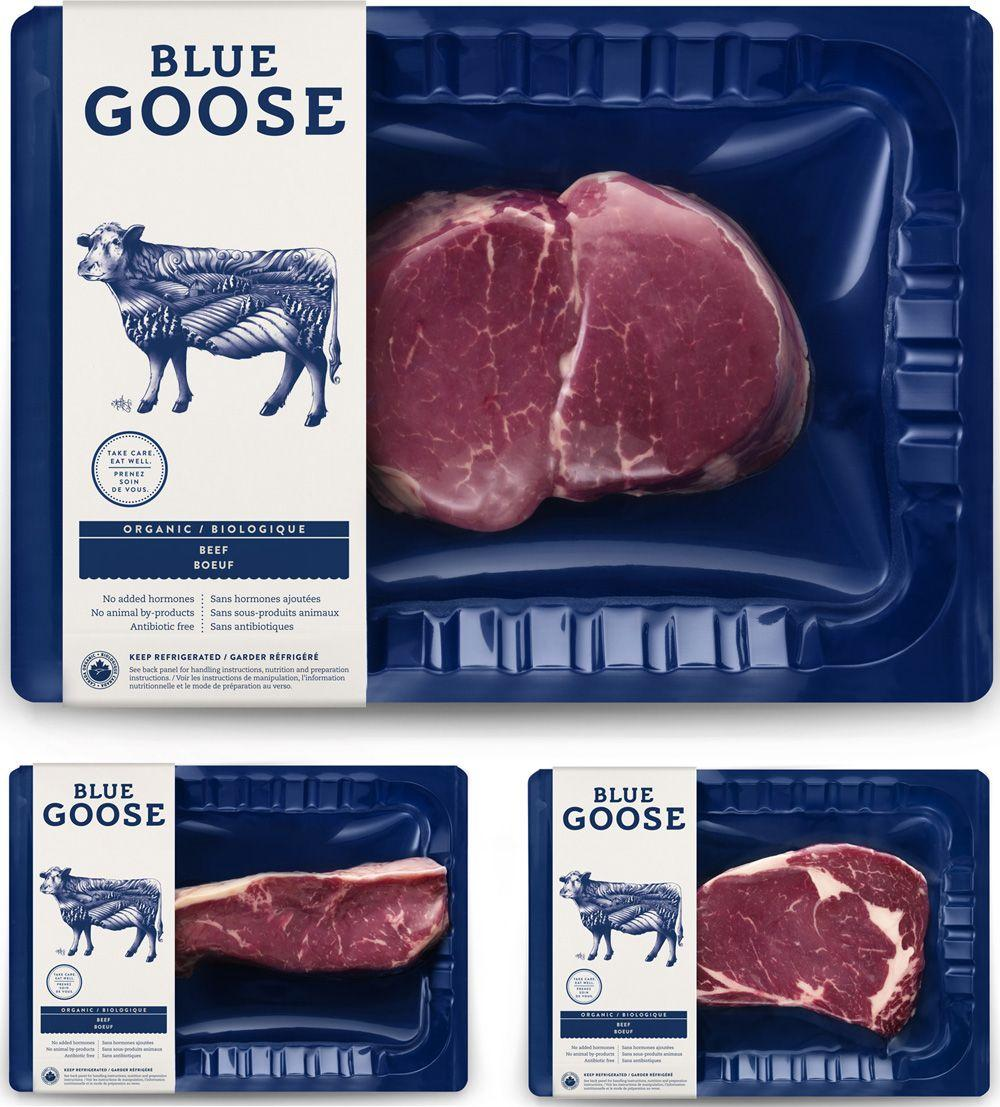beef: (573, 315, 1000, 941), (277, 857, 720, 1107), (778, 850, 1000, 1107)
